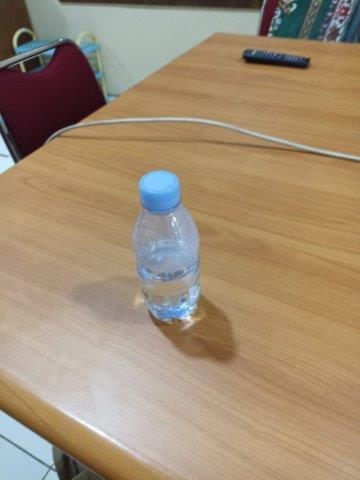botolplastik: (131, 170, 201, 323)
